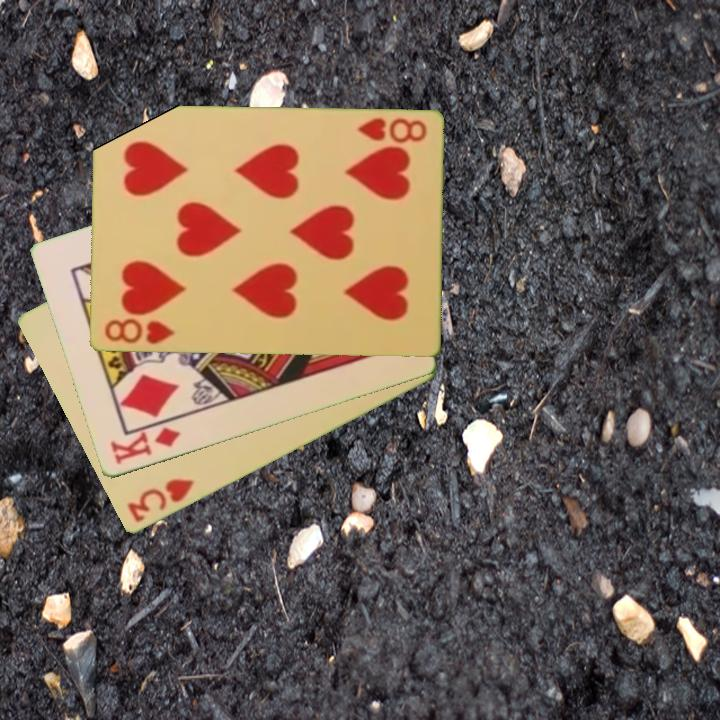3h: (123, 475, 197, 526)
8h: (354, 114, 429, 147), (101, 315, 177, 347)
Kd: (106, 423, 184, 468)
